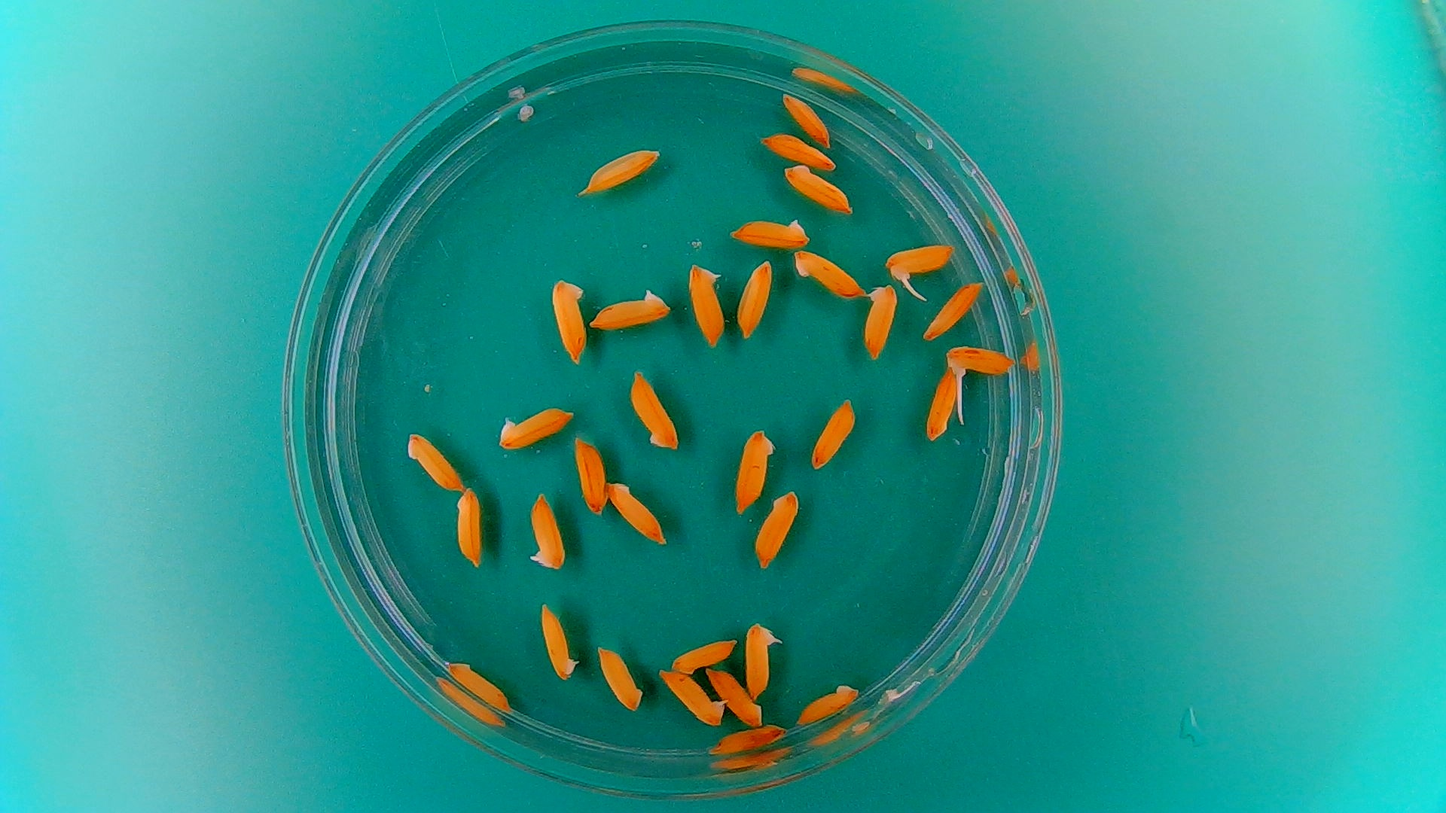no: (627, 366, 682, 453), (604, 479, 670, 547), (576, 143, 661, 195), (731, 425, 778, 517), (752, 486, 802, 571), (493, 402, 576, 453), (585, 285, 673, 332), (782, 163, 856, 218), (547, 273, 590, 367), (922, 278, 986, 341), (444, 658, 515, 714), (789, 248, 865, 300), (684, 260, 728, 348), (403, 429, 464, 492), (706, 665, 766, 729), (809, 394, 859, 470), (537, 600, 581, 685), (594, 643, 645, 714), (570, 432, 612, 517), (793, 681, 864, 730), (734, 257, 775, 340), (921, 365, 963, 445), (728, 215, 811, 253), (861, 280, 899, 362), (759, 130, 838, 169), (780, 90, 833, 147), (665, 635, 738, 676), (705, 722, 787, 757), (454, 483, 486, 570)
yes: (654, 665, 726, 728), (529, 494, 568, 574), (743, 621, 782, 698), (887, 241, 953, 280), (941, 349, 1017, 380)
